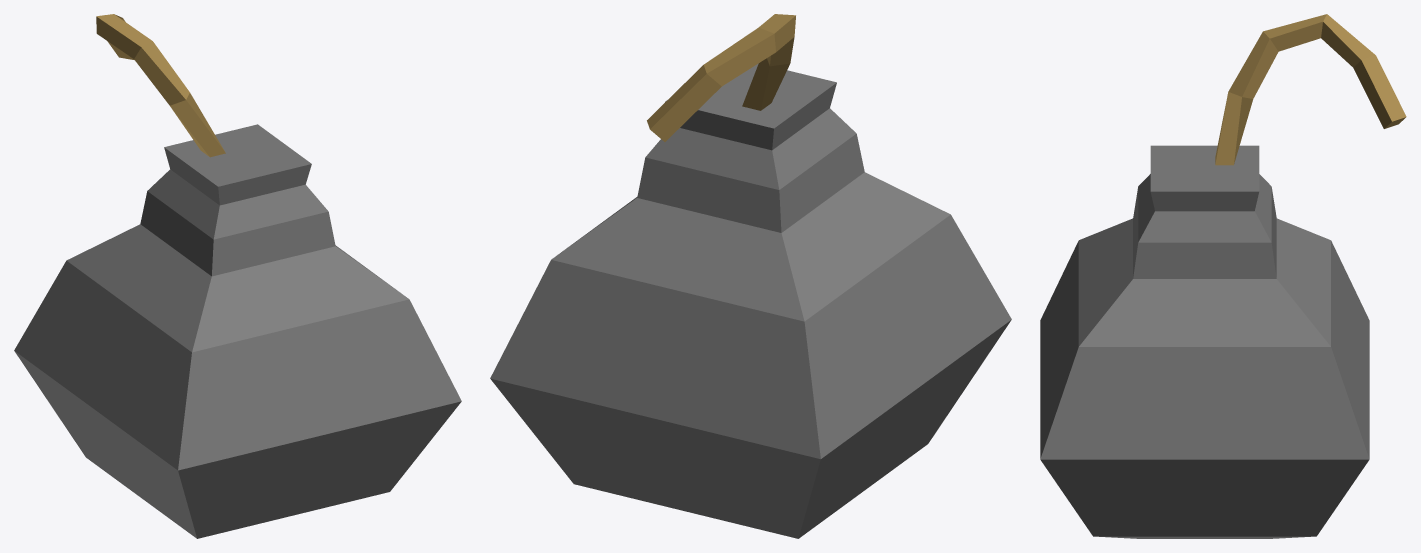
The model's file is item_bomb_fixed.fbx.
3 views of the same model, side by side, from view 1: azimuth 30°, elevation 25°; view 2: azimuth 150°, elevation 25°; view 3: azimuth 270°, elevation 25° (orthographic). The views are drawn at different scales.
Visible parts, largest first — view 1: ItemBomb; view 2: ItemBomb; view 3: ItemBomb.
Boxes of the visible parts, bbox=[...] form: ItemBomb: bbox=[14, 14, 461, 538]; ItemBomb: bbox=[490, 14, 1011, 538]; ItemBomb: bbox=[1040, 14, 1406, 538].
Size of the model in its own units: 261 by 400 by 290.
